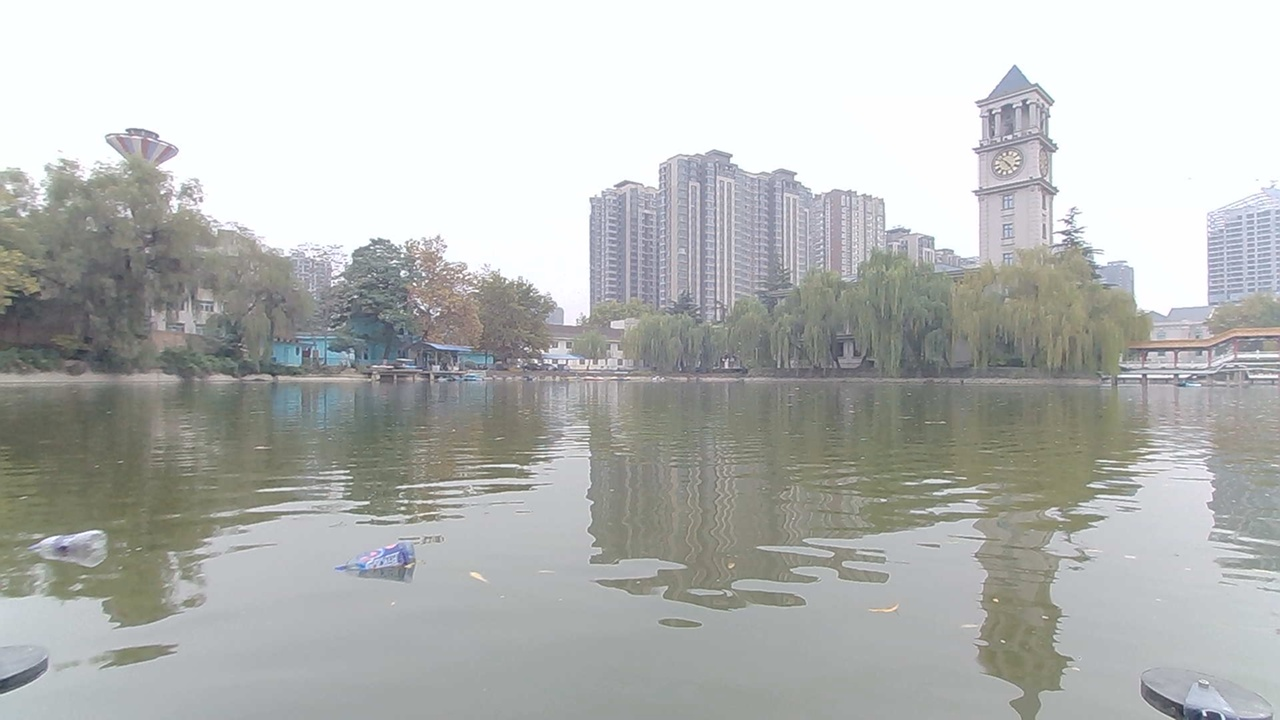bottle: (33, 511, 121, 577), (339, 527, 430, 585)
